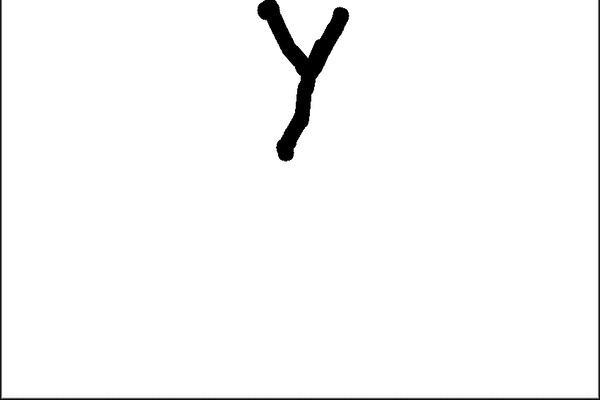Y: (235, 0, 363, 167)
